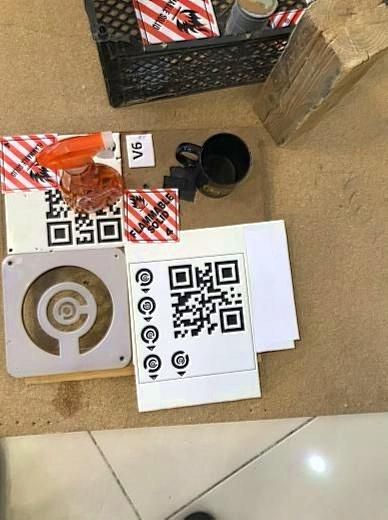flammable-solid: (130, 1, 225, 45), (1, 135, 60, 196), (123, 188, 180, 246)
